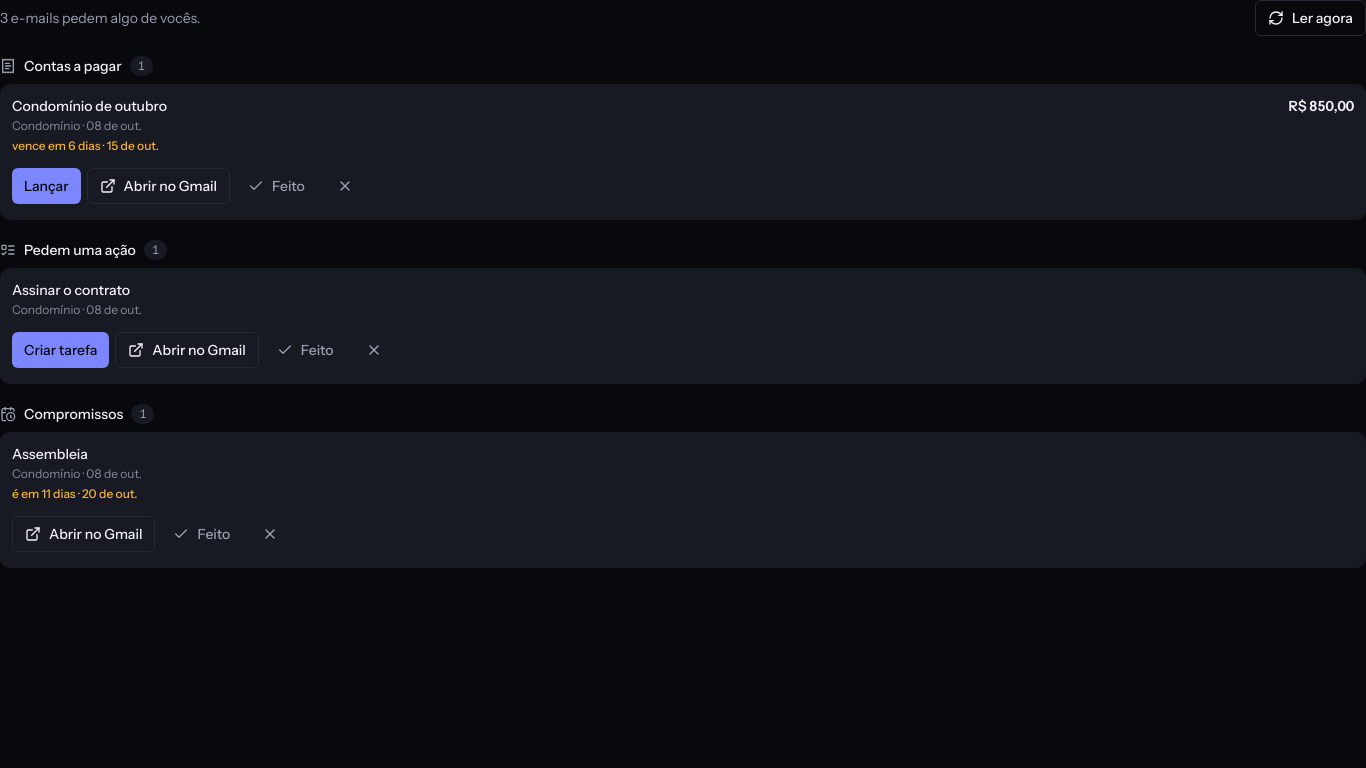
Test case: a lista › Lançar abre o formulário com o valor e o vencimento; Feito tira da lista
This screenshot has width=1366, height=768.
Click the button "Lançar" at (46, 186), box top-left (12, 168), bottom-right (81, 204)
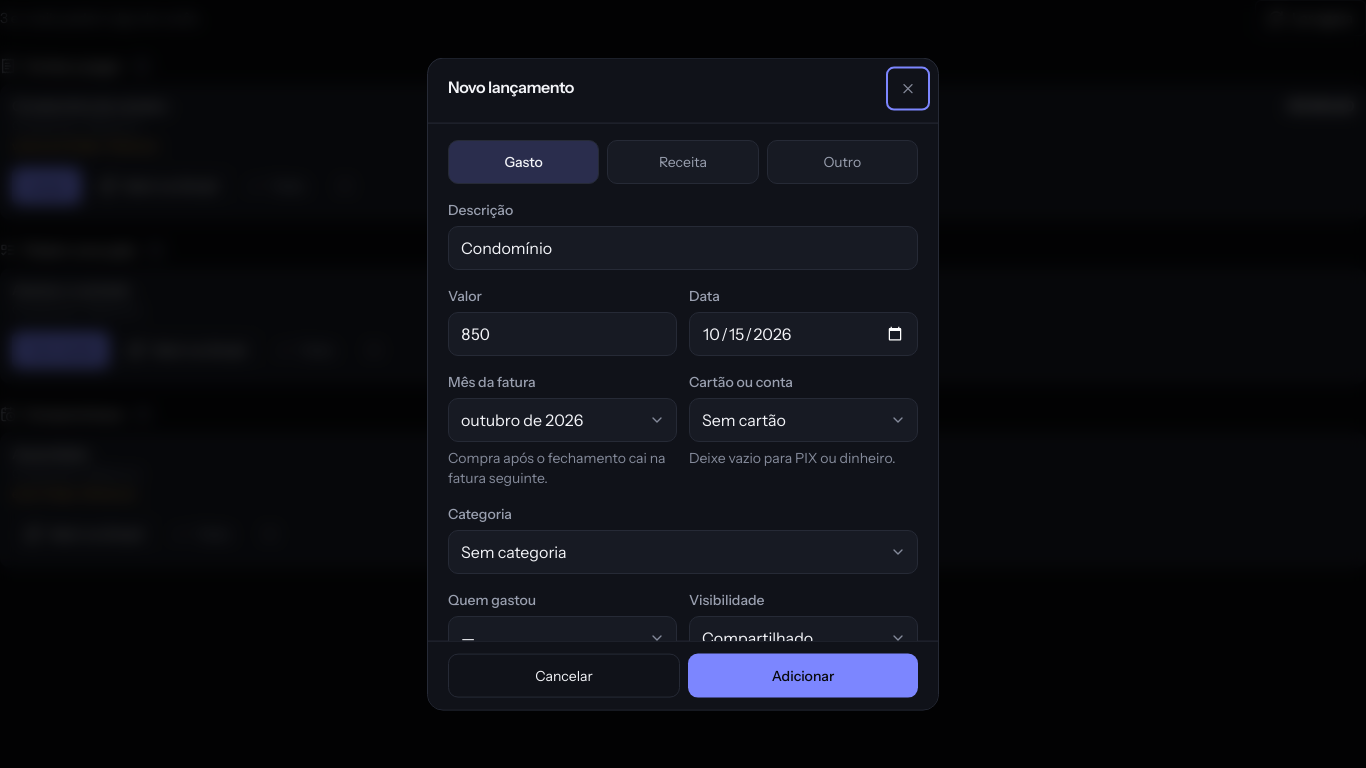
Now the field labelled "Valor" holds "850", box top-left (448, 312), bottom-right (677, 356)
Now the date field labelled "Data" holds "2026-10-15", box top-left (689, 312), bottom-right (918, 356)
Now the field labelled "Descrição" holds "Condomínio", box top-left (448, 226), bottom-right (918, 270)
Click the button "Cancelar" at (564, 675), box top-left (448, 653), bottom-right (680, 697)
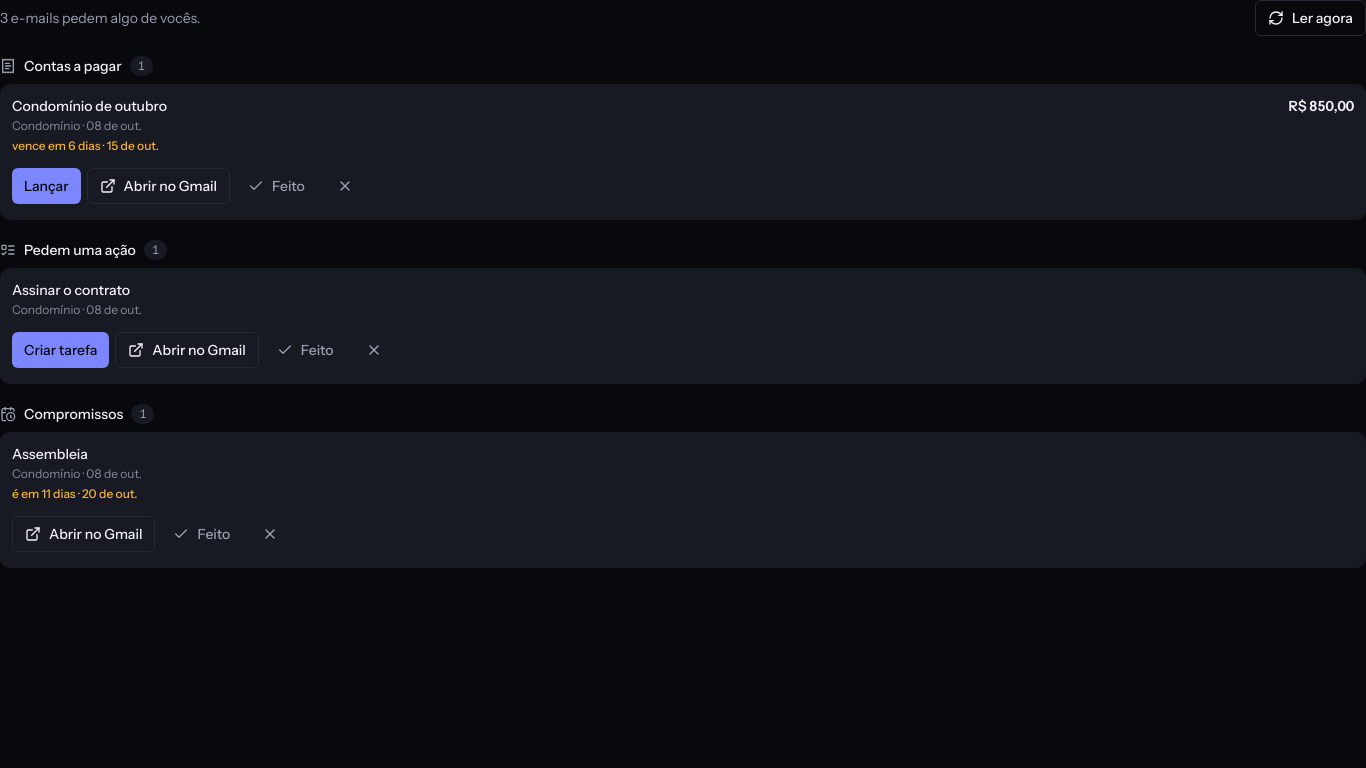
Click the button "Feito" below "Assembleia" at (202, 534), box top-left (161, 516), bottom-right (242, 552)
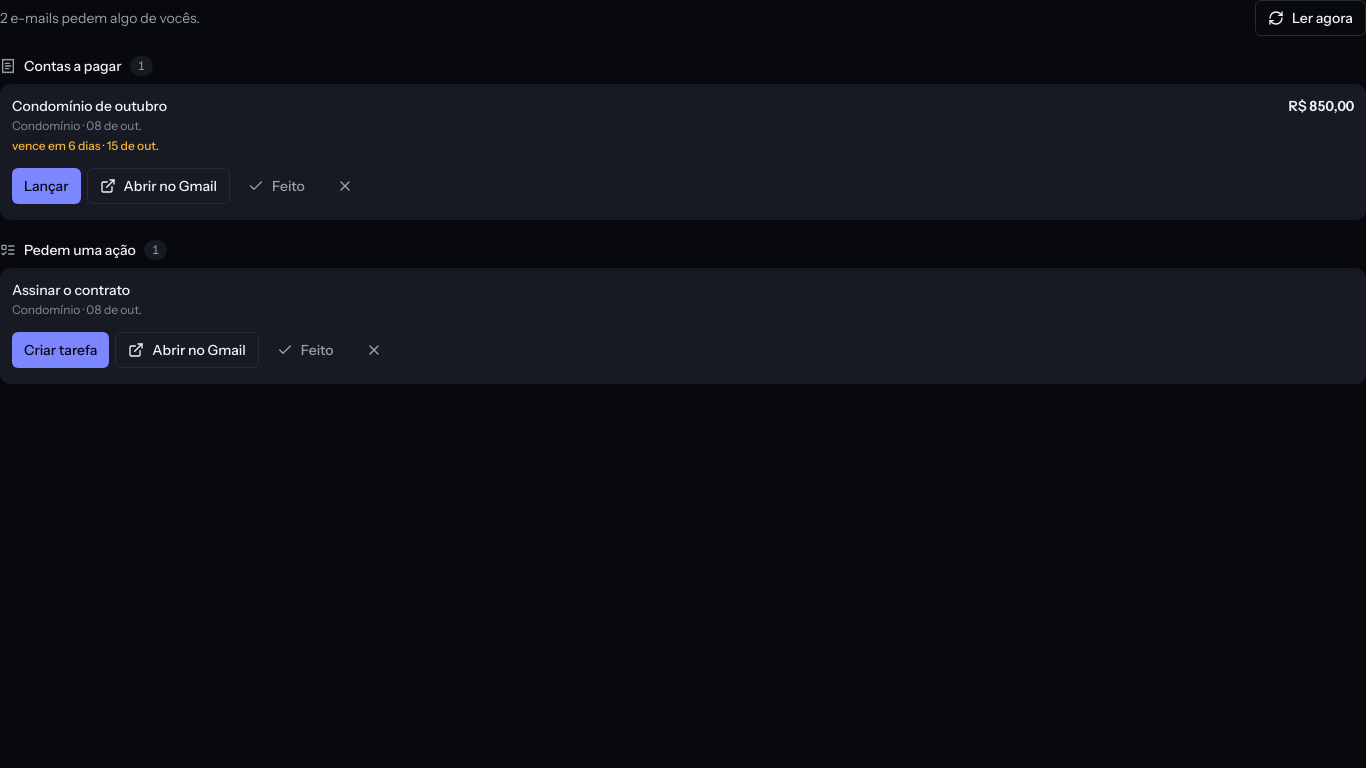
Now the text "Assembleia" is gone
